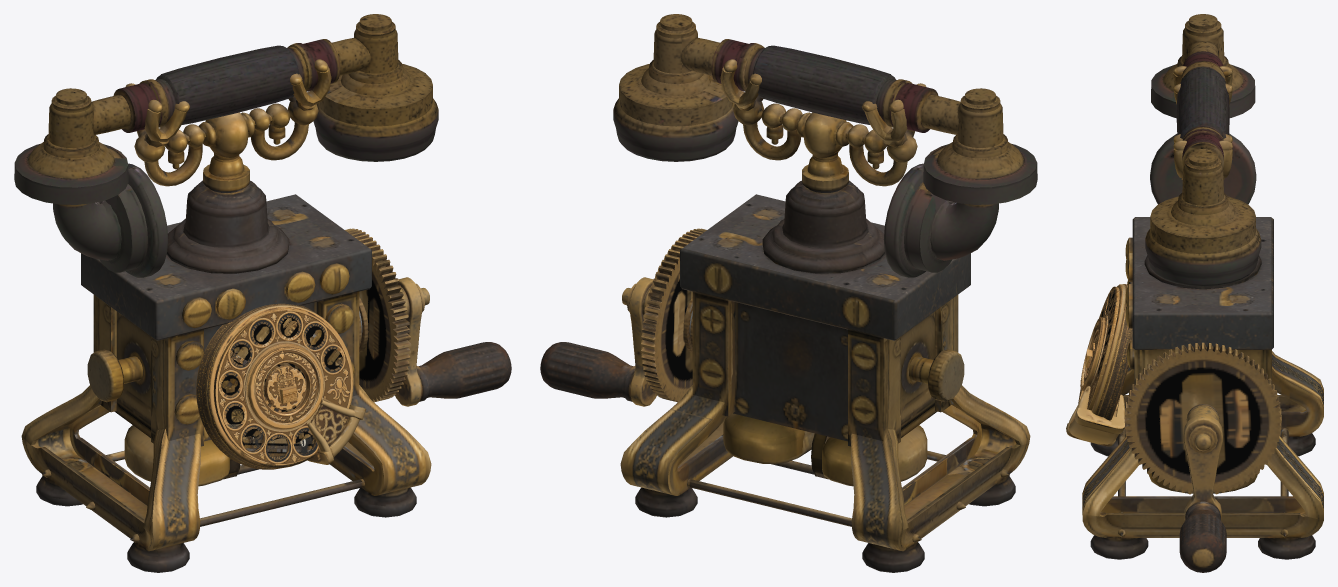
The model's file is Telephone.fbx.
3 renders of one model, left to right at view 1: azimuth 30°, elevation 25°; view 2: azimuth 150°, elevation 25°; view 3: azimuth 270°, elevation 25°, orthographic. The views are drawn at different scales.
Visible parts, largest first — view 1: Telephone_Body_Low, Telephone_Handset_Low, Telephone_Dial_Low, Telephone_Crank_Low, Telephone_Cradle_Low, Telephone_DialStop_Low; view 2: Telephone_Body_Low, Telephone_Handset_Low, Telephone_Crank_Low, Telephone_Cradle_Low; view 3: Telephone_Body_Low, Telephone_Handset_Low, Telephone_Crank_Low, Telephone_Dial_Low, Telephone_DialStop_Low, Telephone_Cradle_Low.
Part boxes in pixels (x1=…): Telephone_Body_Low: x1=21, y1=155, x2=431, y2=572; Telephone_Handset_Low: x1=14, y1=14, x2=438, y2=277; Telephone_Dial_Low: x1=196, y1=303, x2=353, y2=469; Telephone_Crank_Low: x1=345, y1=228, x2=511, y2=406; Telephone_Cradle_Low: x1=125, y1=43, x2=331, y2=186; Telephone_DialStop_Low: x1=307, y1=399, x2=365, y2=464; Telephone_Body_Low: x1=620, y1=155, x2=1030, y2=572; Telephone_Handset_Low: x1=613, y1=14, x2=1037, y2=277; Telephone_Crank_Low: x1=540, y1=228, x2=706, y2=406; Telephone_Cradle_Low: x1=720, y1=43, x2=926, y2=186; Telephone_Body_Low: x1=1082, y1=217, x2=1323, y2=559; Telephone_Handset_Low: x1=1145, y1=14, x2=1261, y2=286; Telephone_Crank_Low: x1=1124, y1=342, x2=1281, y2=572; Telephone_Dial_Low: x1=1078, y1=284, x2=1132, y2=420; Telephone_DialStop_Low: x1=1066, y1=386, x2=1124, y2=446; Telephone_Cradle_Low: x1=1173, y1=66, x2=1232, y2=179.
Size of the model in its own units: 1.18 by 1.04 by 0.5912.
